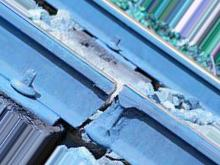tracks_fault: (74, 63, 147, 144)
